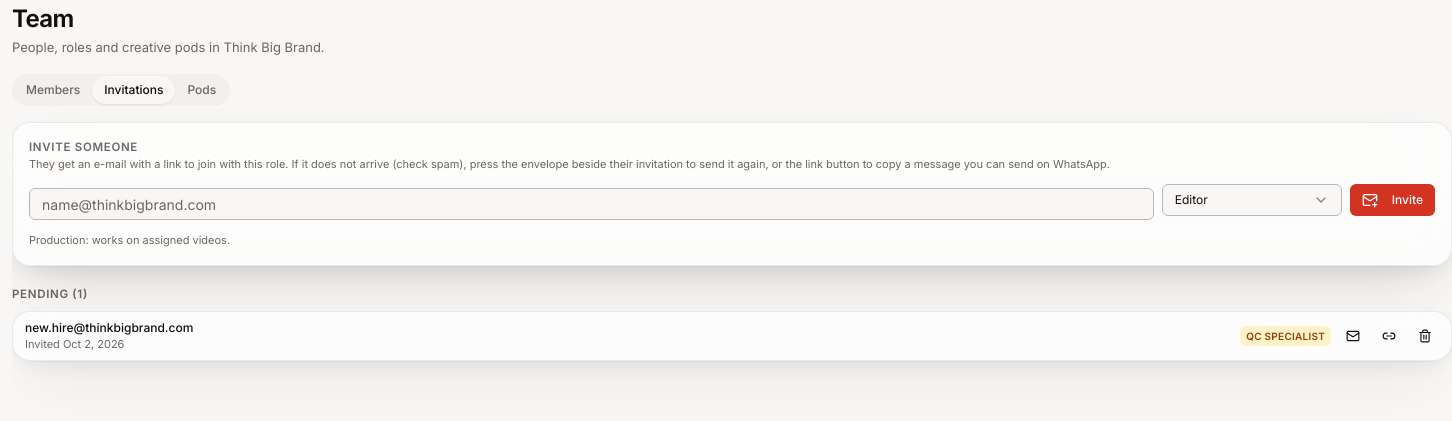
Test: Team page: invitations › the role list never offers OWNER
This screenshot has width=1452, height=421.
Expected: the text "new.hire@thinkbigbrand.com" is shown, [25, 320, 193, 336]
Step 1. Click the dropdown named "Role for the invited person" → (1252, 200), box [1162, 184, 1342, 216]
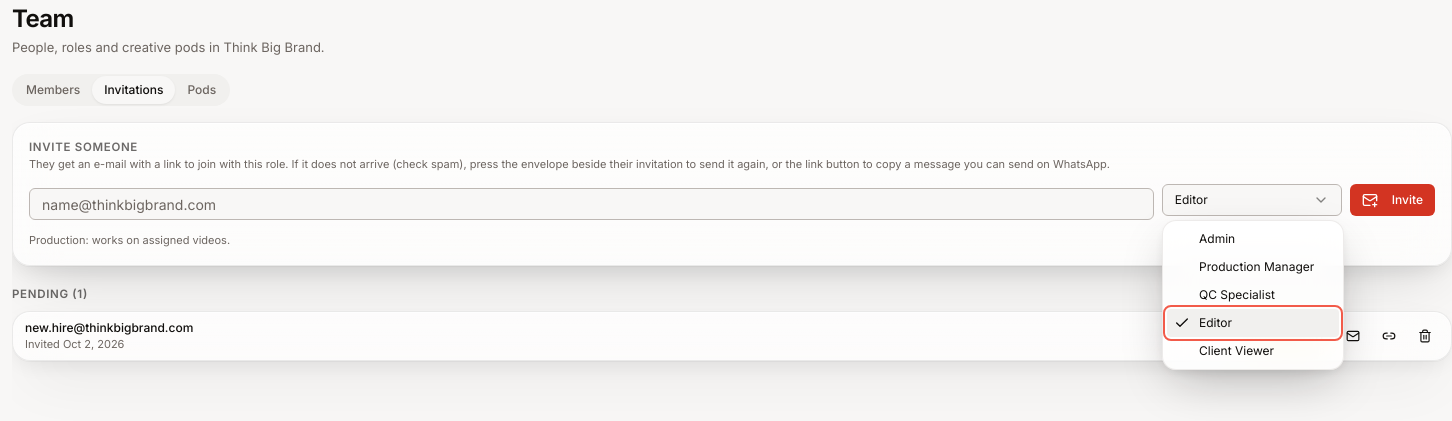
Expected: the options read "Admin", "Production Manager", "QC Specialist", "Editor", "Client Viewer", in this order, [1199, 231, 1235, 246]; [1199, 259, 1314, 274]; [1199, 287, 1275, 302]; [1167, 309, 1339, 337]; [1199, 343, 1274, 358]
